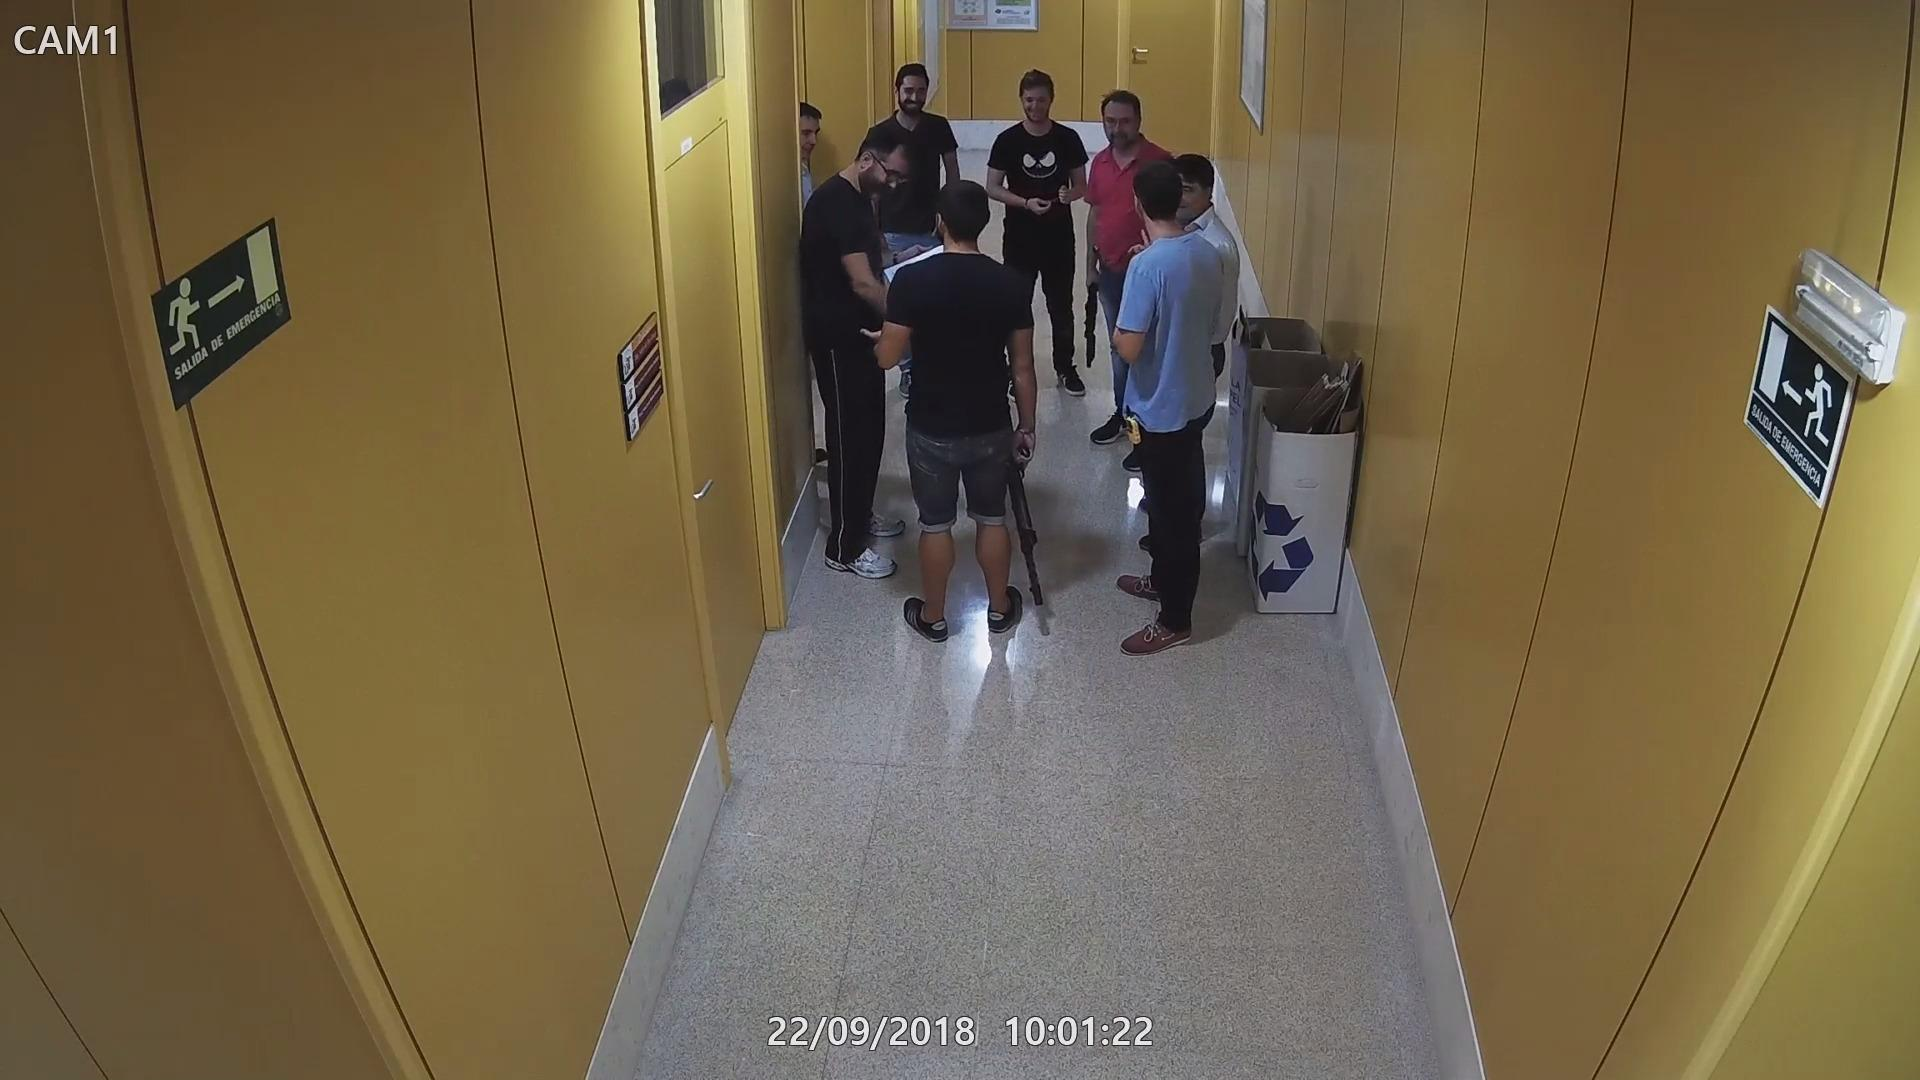Handgun: (1084, 249, 1110, 278)
